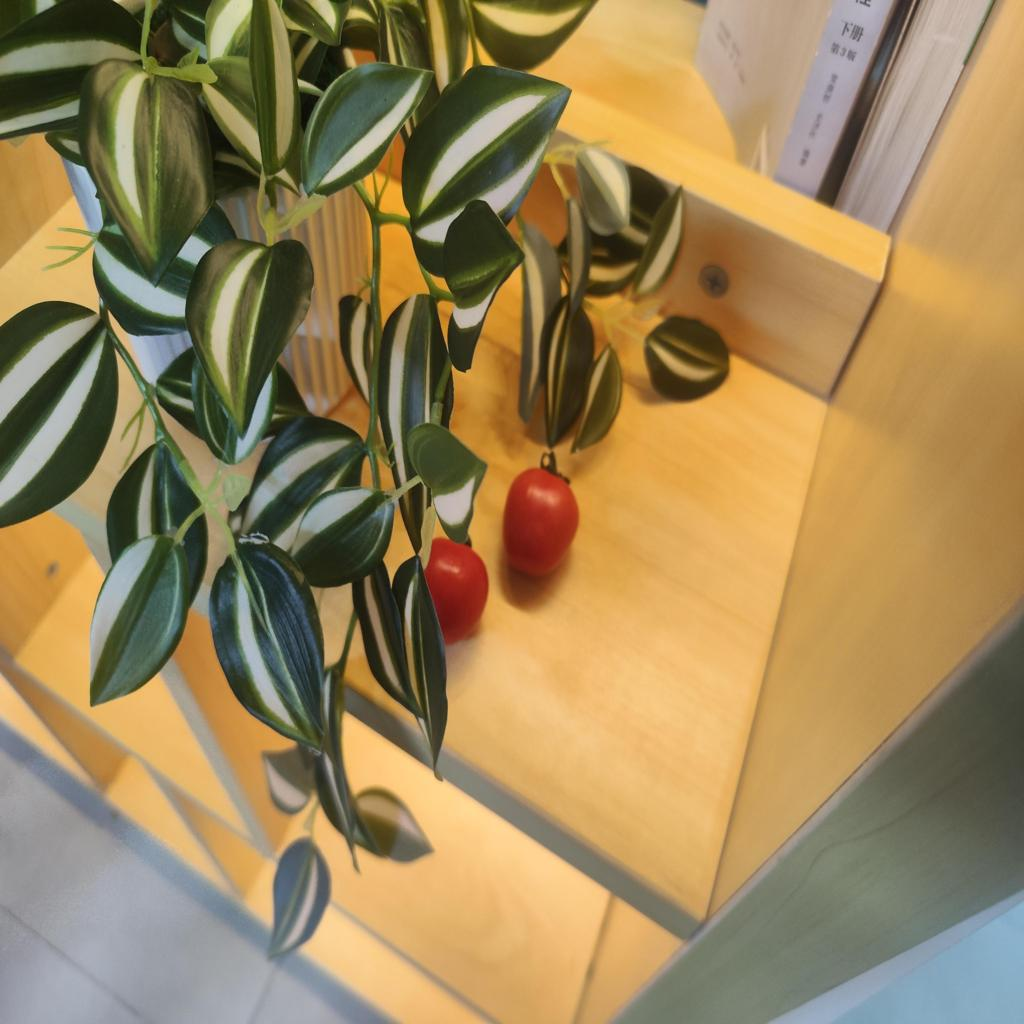tomato: (414, 531, 501, 645), (505, 468, 588, 587)
